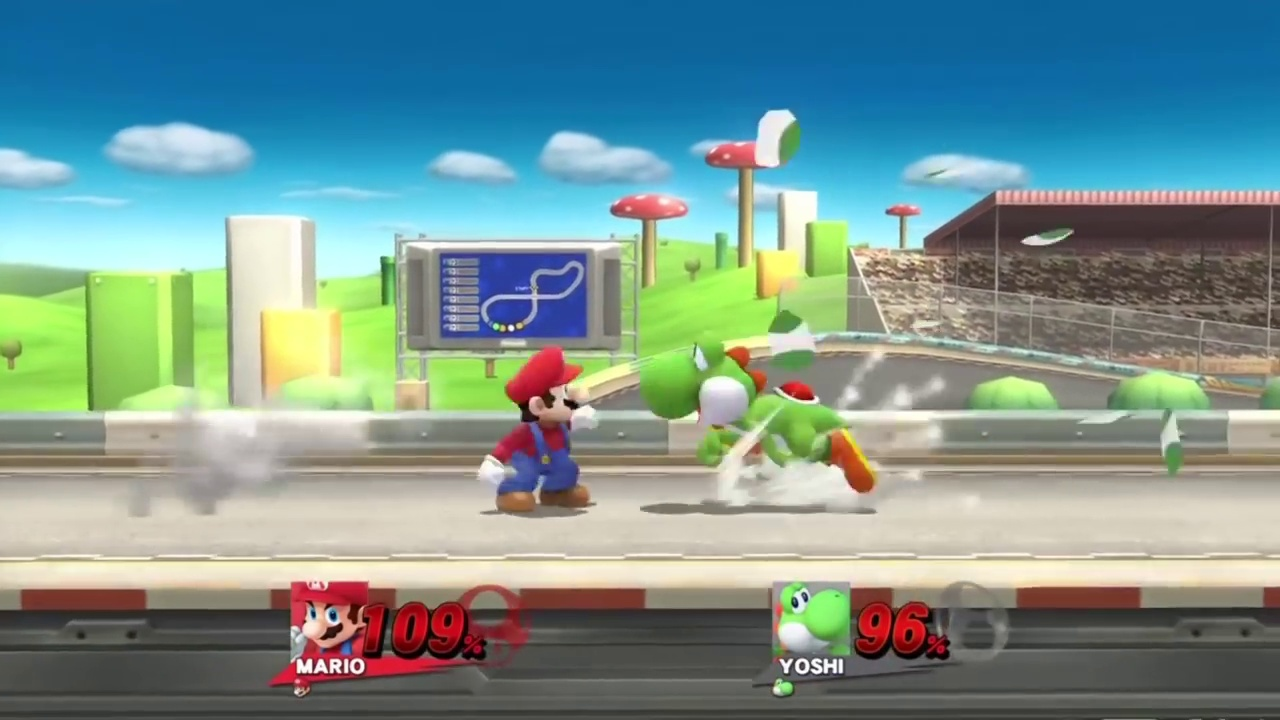Mario: (480, 350, 598, 511)
